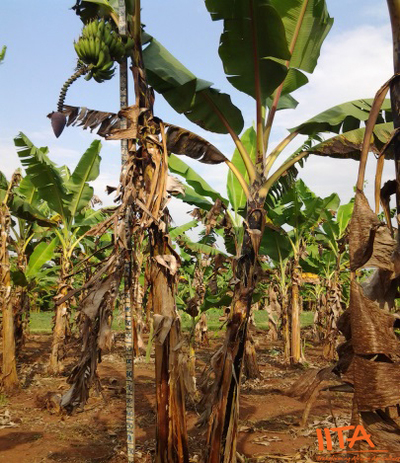bananaHand: (71, 15, 136, 83)
